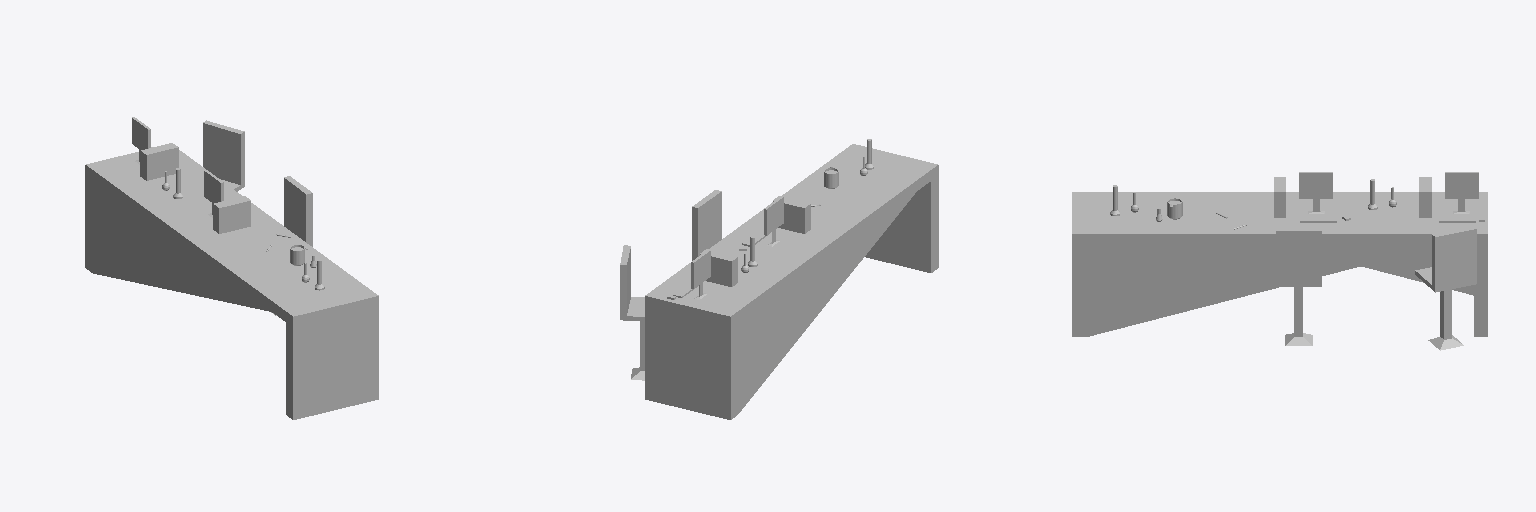
The model's file is mesa.obj.
The picture shows the model from 3 angles: view 1: azimuth 30°, elevation 25°; view 2: azimuth 150°, elevation 25°; view 3: azimuth 270°, elevation 25°; orthographic projection.
Parts seen in each view (by area): view 1: Cube.009_Cube.011; view 2: Cube.009_Cube.011; view 3: Cube.009_Cube.011.
Part boxes in pixels (left/top/right/bottom): Cube.009_Cube.011: left=85, top=117, right=378, bottom=419; Cube.009_Cube.011: left=620, top=139, right=938, bottom=419; Cube.009_Cube.011: left=1072, top=172, right=1487, bottom=350.
Size of the model in its own units: 38.88 by 40.21 by 105.